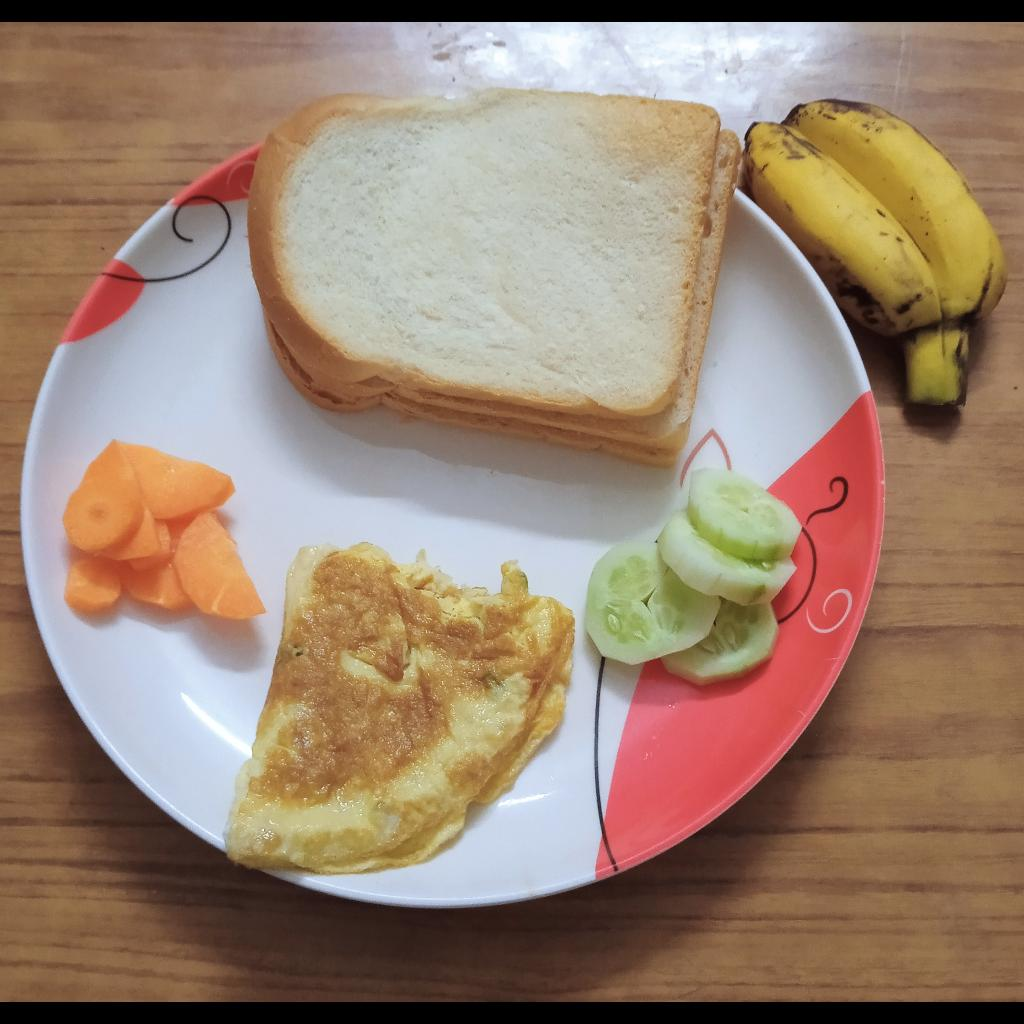banana: (746, 100, 1010, 411)
bread: (249, 87, 738, 468)
carrot: (63, 438, 269, 622)
cucumber: (582, 467, 805, 690)
egg-poached: (221, 541, 575, 873)
